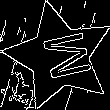M_W: (29, 28, 90, 85)
